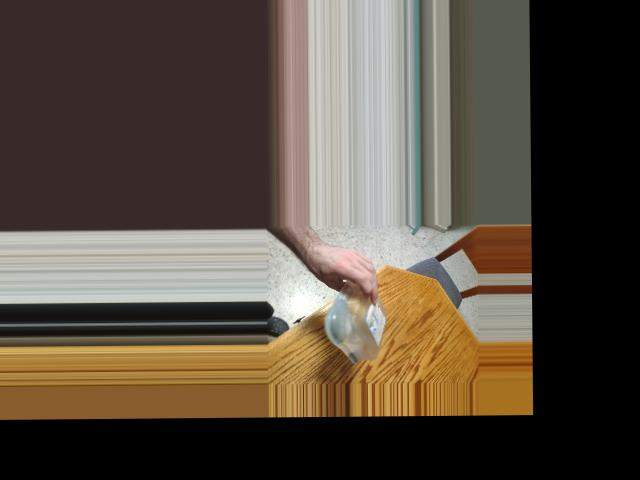cheese: (332, 266, 384, 358)
